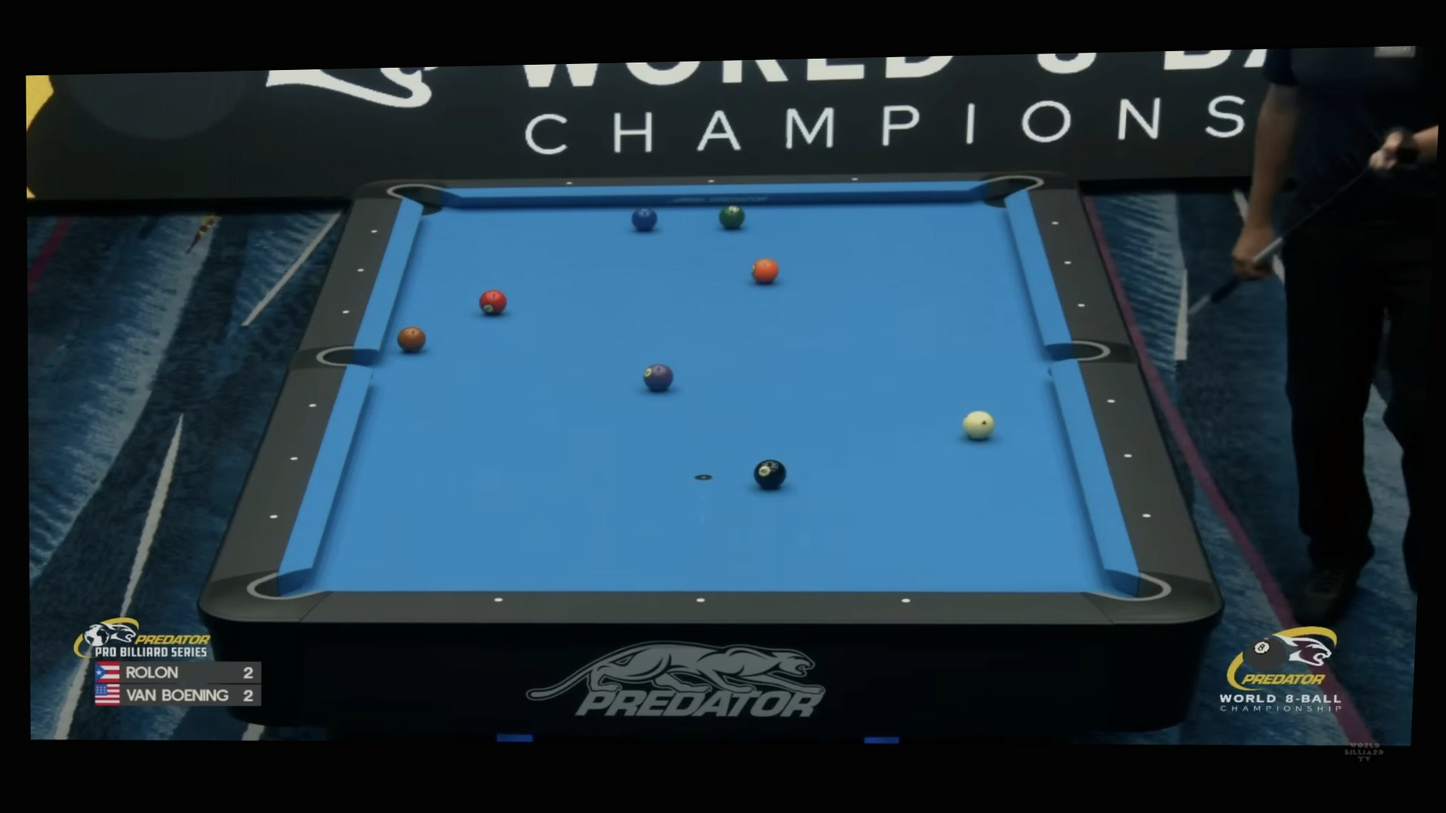Black: (695, 595, 708, 606), (900, 595, 913, 606), (492, 595, 504, 606), (1141, 510, 1153, 521), (1121, 451, 1133, 462), (1105, 396, 1117, 407), (268, 512, 279, 521), (307, 402, 318, 411), (290, 455, 300, 464), (356, 265, 365, 274), (1076, 301, 1086, 309), (341, 308, 350, 316), (370, 227, 379, 235), (1063, 259, 1072, 267), (1051, 219, 1060, 227), (565, 179, 573, 187), (851, 175, 859, 183), (707, 178, 715, 185)
Cue: (643, 363, 674, 391), (478, 288, 508, 315), (397, 326, 427, 353), (751, 257, 779, 284), (719, 204, 745, 228), (631, 208, 657, 231)
Solid: (753, 458, 787, 490)
Stripe: (962, 410, 995, 440)
